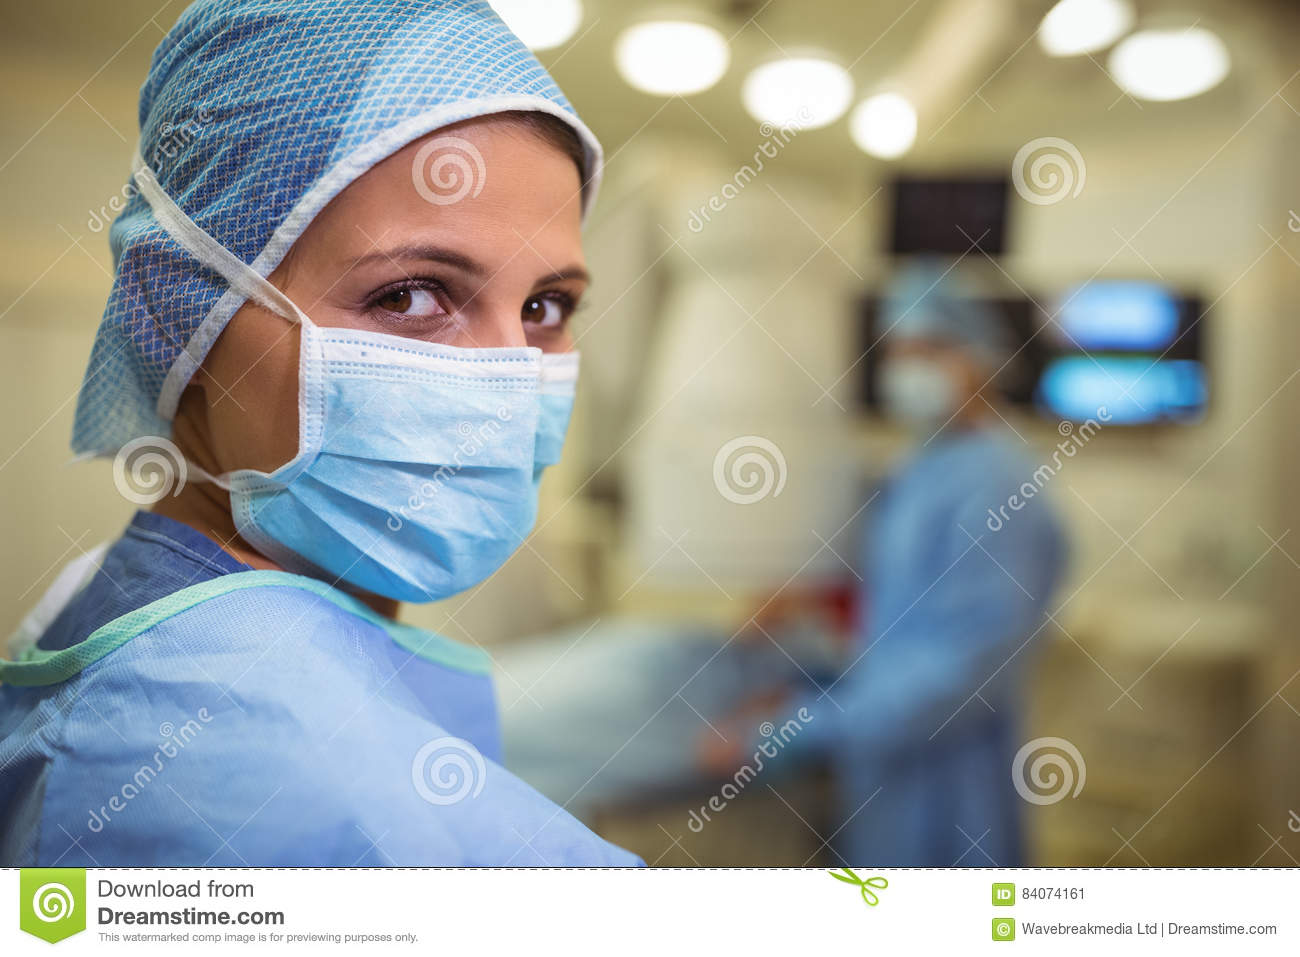mask: (226, 314, 586, 633)
